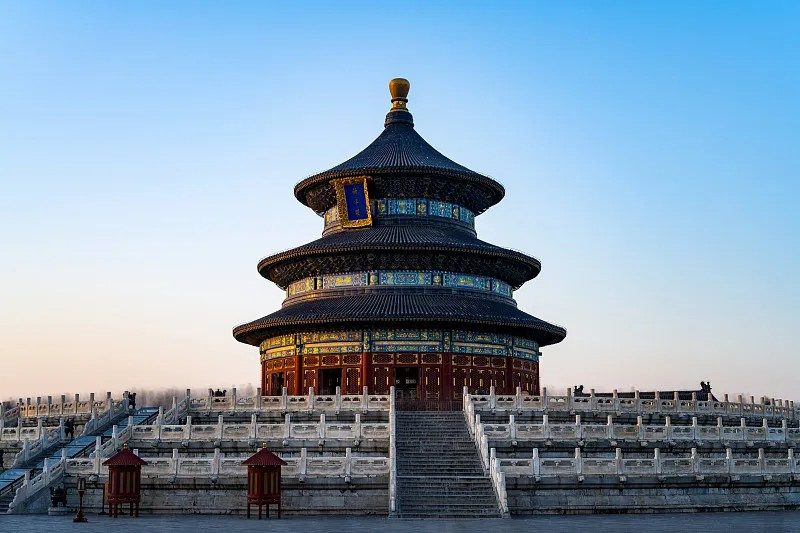Heaven: (231, 77, 567, 408)
